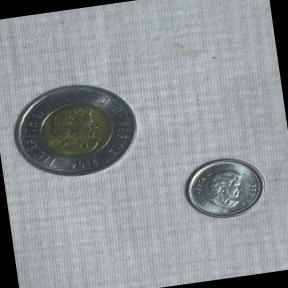coin: (2, 69, 153, 191), (174, 146, 274, 226)
